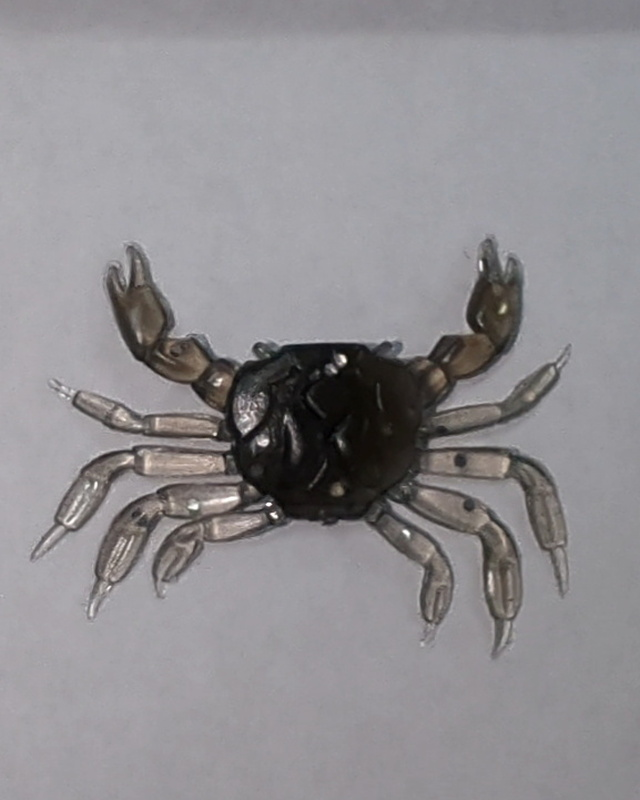crab1: (29, 235, 579, 665)
